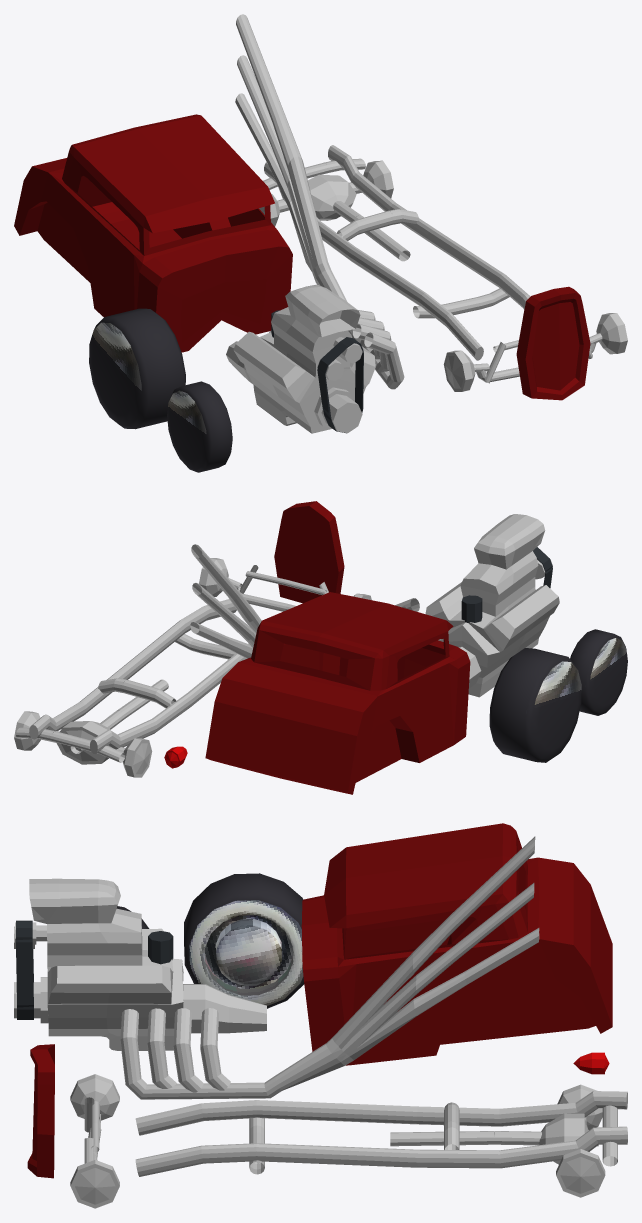
Rendered from hot rod parts 1.glb.
3 views of the same model, one above another, from view 1: azimuth 30°, elevation 25°; view 2: azimuth 150°, elevation 25°; view 3: azimuth 270°, elevation 25° (orthographic). The views are drawn at different scales.
Visible parts, largest first — view 1: cab 1.002, engine.002, chassis 1.002, Plane.028, big wheel 1.002, grill 1.002, small wheel 1.002, front axle.002; view 2: cab 1.002, engine.002, chassis 1.002, big wheel 1.002, grill 1.002, small wheel 1.002, Plane.028, front axle.002; view 3: cab 1.002, chassis 1.002, engine.002, Plane.028, big wheel 1.002, front axle.002, grill 1.002, Cylinder.051.
Part boxes in pixels (left/top/right/bottom): cab 1.002: left=14, top=114, right=292, bottom=352; engine.002: left=226, top=284, right=375, bottom=433; chassis 1.002: left=259, top=145, right=530, bottom=360; Plane.028: left=235, top=14, right=404, bottom=389; big wheel 1.002: left=89, top=308, right=185, bottom=429; grill 1.002: left=516, top=286, right=590, bottom=400; small wheel 1.002: left=167, top=381, right=232, bottom=472; front axle.002: left=443, top=313, right=627, bottom=391; cab 1.002: left=205, top=592, right=470, bottom=794; engine.002: left=425, top=514, right=559, bottom=697; chassis 1.002: left=14, top=599, right=250, bottom=777; big wheel 1.002: left=489, top=648, right=581, bottom=762; grill 1.002: left=274, top=501, right=344, bottom=603; small wheel 1.002: left=570, top=629, right=627, bottom=715; Plane.028: left=190, top=544, right=419, bottom=658; front axle.002: left=199, top=558, right=371, bottom=611; cab 1.002: left=301, top=823, right=612, bottom=1065; chassis 1.002: left=135, top=1084, right=627, bottom=1197; engine.002: left=14, top=878, right=266, bottom=1050; Plane.028: left=120, top=836, right=539, bottom=1099; big wheel 1.002: left=184, top=873, right=304, bottom=1008; front axle.002: left=70, top=1074, right=119, bottom=1208; grill 1.002: left=27, top=1044, right=54, bottom=1178; Cylinder.051: left=573, top=1052, right=609, bottom=1074.
Size of the model in its own units: 6.5 by 3.65 by 6.96.
Materials: 5 (1 with a texture image).
